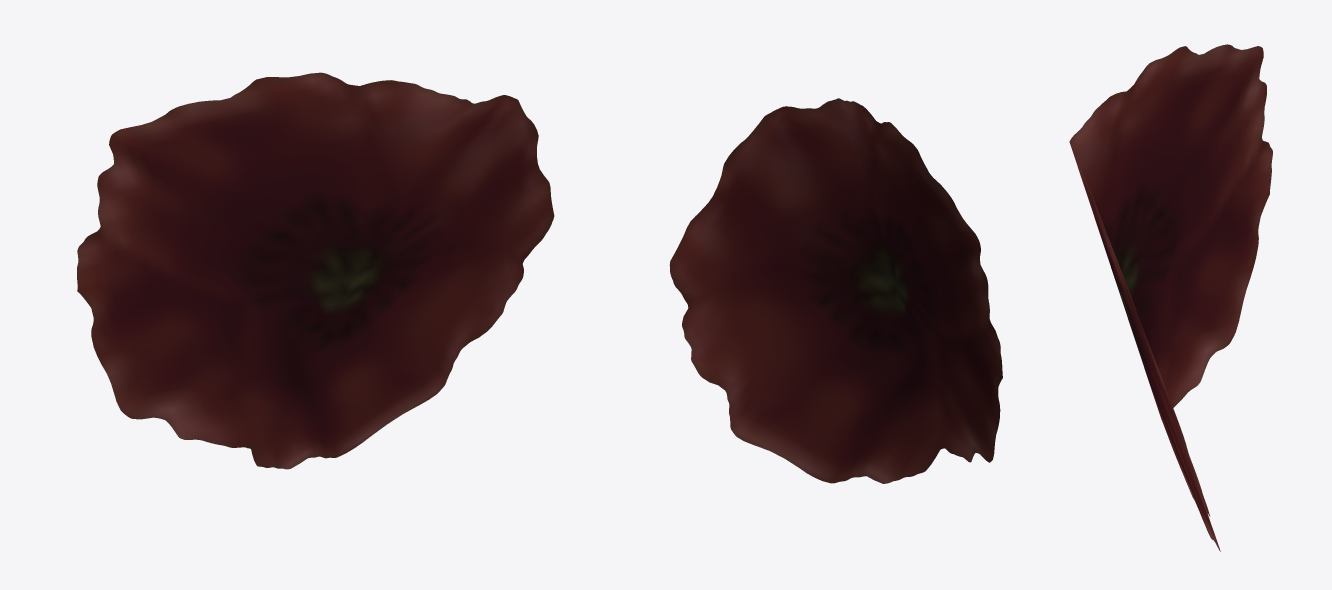
File: MEP_RedFlower_Part_02_S.fbx
3 renders of one model, left to right at view 1: azimuth 30°, elevation 25°; view 2: azimuth 150°, elevation 25°; view 3: azimuth 270°, elevation 25°, orthographic. The views are drawn at different scales.
Parts seen in each view (by area): view 1: MEP_RedFlower_Part_02_S; view 2: MEP_RedFlower_Part_02_S; view 3: MEP_RedFlower_Part_02_S.
Boxes of the visible parts, box(x1,y1,x2,y2) form: MEP_RedFlower_Part_02_S: box(77, 72, 554, 469); MEP_RedFlower_Part_02_S: box(669, 98, 1002, 483); MEP_RedFlower_Part_02_S: box(1069, 44, 1272, 551).
Bounding box in the file's own units: 0.1745 × 0.1733 × 0.0724.
